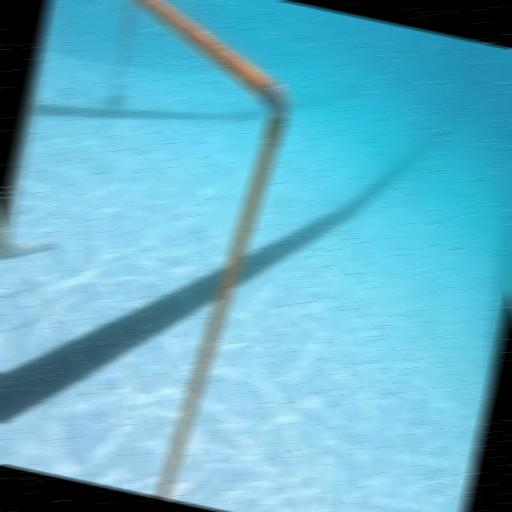gate: (0, 0, 312, 506)
